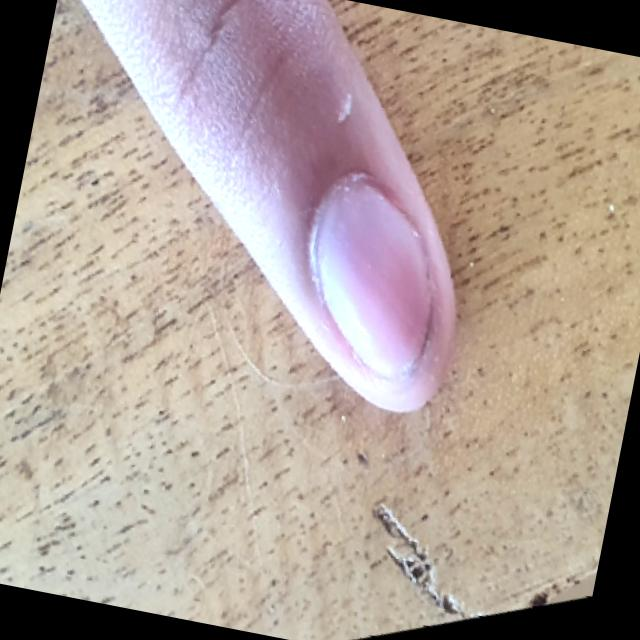Nail: (314, 185, 429, 373)
